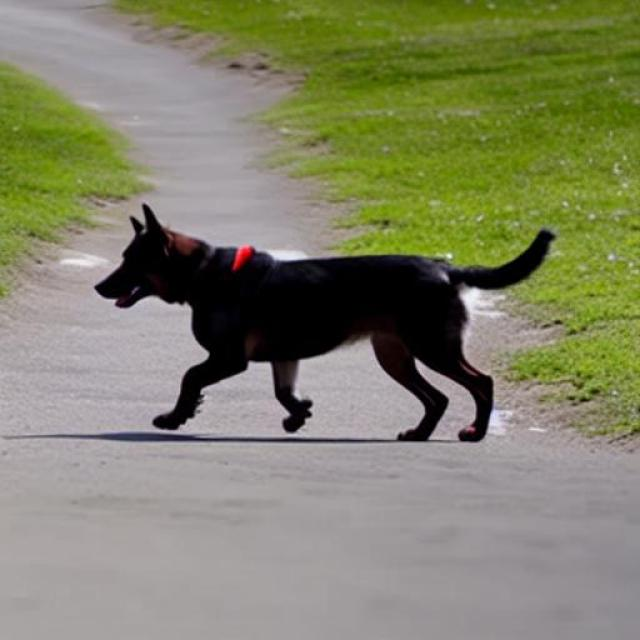Dog: (93, 201, 558, 442)
